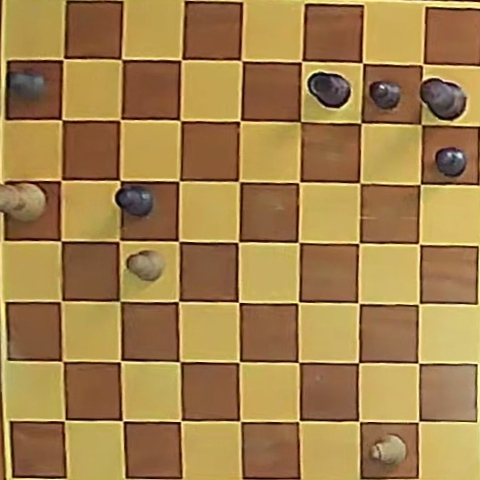black-king: (420, 79, 466, 120)
black-pawn: (116, 185, 153, 217), (9, 71, 46, 100), (435, 147, 467, 177), (370, 81, 402, 110)
black-rook: (308, 72, 351, 108)
white-bishop: (371, 436, 407, 466)
white-king: (1, 183, 46, 222)
white-pawn: (127, 250, 164, 281)
